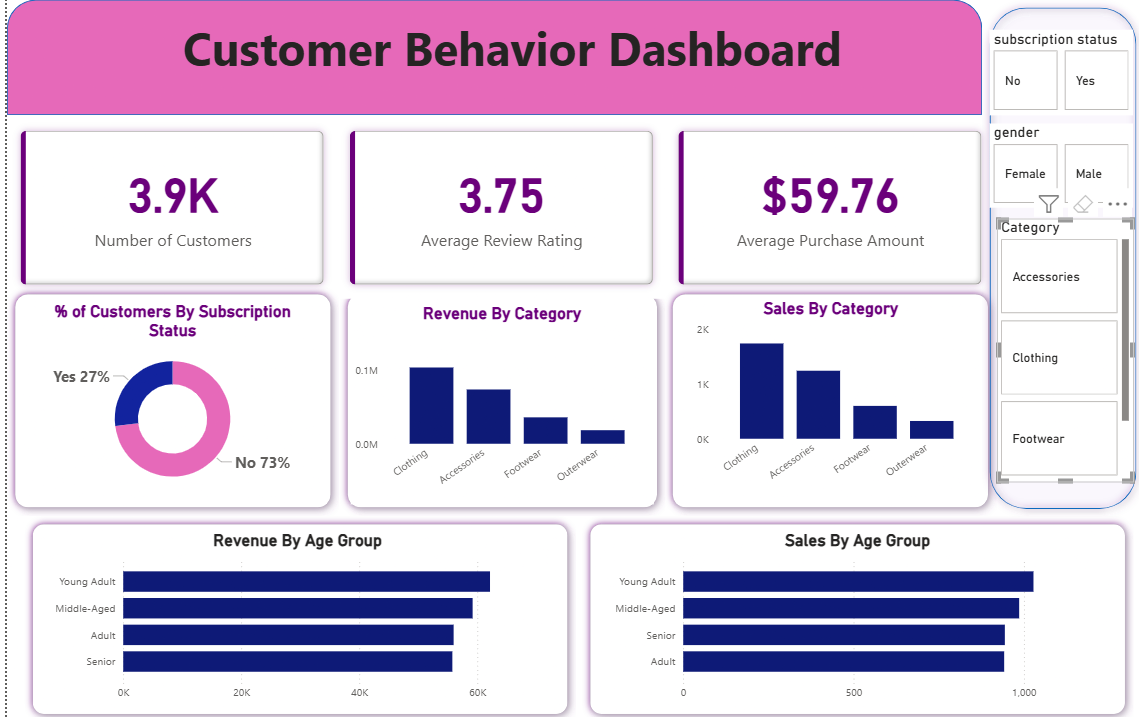

This screenshot's page, from the dashboard's own definition file:
{"tool":"powerbi","page":{"name":"Page 1","canvas":[1318,853],"ordinal":0},"visuals":[{"type":"shape","box":[0,348.4,384.6,266.2],"z":0,"group":"g1"},{"type":"shape","box":[384.6,348.4,377.7,266.2],"z":0},{"type":"cardVisual","fields":{"Data":["customer_behave.Number of Customers","customer_behave.Average Review Rating","customer_behave.Average Purchase Amount"]},"box":[0,151.9,1147,210.4],"z":1000},{"type":"donutChart","title":"% of Customers By Subscription Status","fields":{"Category":["customer_behave.subscription_status"],"Y":["CountNonNull(customer_behave.customer_id)"]},"box":[20.6,367.7,343.4,227.5],"z":1000,"group":"g1"},{"type":"shape","box":[762.3,348.4,384.6,266.2],"z":2000},{"type":"shape","box":[0,15.3,1130.3,133.8],"z":3000},{"type":"textbox","box":[1130,7,150,150],"z":4000},{"type":"textbox","box":[196.5,30.7,777.7,80.8],"z":5000},{"type":"group","id":"g1","title":"Group 1","box":[0,348.4,384.6,266.2],"z":6000},{"type":"clusteredColumnChart","title":"Revenue By Category","fields":{"Category":["customer_behave.category"],"Y":["Sum(customer_behave.purchase_amount)"]},"box":[398.6,367.9,351.2,232.7],"z":7000},{"type":"clusteredColumnChart","title":"Sales By Category","fields":{"Category":["customer_behave.category"],"Y":["CountNonNull(customer_behave.customer_id)"]},"box":[779.1,362.4,351.2,232.7],"z":8000},{"type":"shape","box":[1130.4,15.5,187.9,599.1],"z":9000},{"type":"advancedSlicerVisual","fields":{"Values":["customer_behave.subscription_status"]},"box":[1138.8,50.9,166.7,98.9],"z":10000},{"type":"advancedSlicerVisual","fields":{"Values":["customer_behave.gender"]},"box":[1138.8,159.7,166.7,97.5],"z":11000},{"type":"advancedSlicerVisual","fields":{"Values":["customer_behave.category"]},"box":[1147.3,269.9,158.3,305.2],"z":12000},{"type":"shape","box":[20.3,614.3,638.9,239],"z":13000},{"type":"clusteredBarChart","title":"Revenue By Age Group","fields":{"Y":["Sum(customer_behave.purchase_amount)"],"Category":["customer_behave.age_group"]},"box":[44.9,631.6,583.8,205.7],"z":14000},{"type":"shape","box":[666.4,614.3,638.9,239],"z":14001},{"type":"clusteredBarChart","title":"Sales By Age Group","fields":{"Y":["CountNonNull(customer_behave.customer_id)"],"Category":["customer_behave.age_group"]},"box":[693.9,631.6,583.8,205.7],"z":14002}]}

Visuals, with their boxes in screenshot pixels (x1, y1, x2, y2), scaled from the page's 1318x853 canvas onto the 1139x717 screenshot:
shape: select_region(0, 293, 332, 517)
shape: select_region(332, 293, 659, 517)
cardVisual - customer_behave.Number of Customers x customer_behave.Average Review Rating: select_region(0, 128, 991, 305)
"% of Customers By Subscription Status" donutChart: select_region(18, 309, 315, 500)
shape: select_region(659, 293, 991, 517)
shape: select_region(0, 13, 977, 125)
textbox: select_region(977, 6, 1106, 132)
textbox: select_region(170, 26, 842, 94)
"Group 1" group: select_region(0, 293, 332, 517)
"Revenue By Category" clusteredColumnChart: select_region(344, 309, 648, 505)
"Sales By Category" clusteredColumnChart: select_region(673, 305, 977, 500)
shape: select_region(977, 13, 1138, 517)
advancedSlicerVisual - customer_behave.subscription_status: select_region(984, 43, 1128, 126)
advancedSlicerVisual - customer_behave.gender: select_region(984, 134, 1128, 216)
advancedSlicerVisual - customer_behave.category: select_region(991, 227, 1128, 483)
shape: select_region(18, 516, 570, 716)
"Revenue By Age Group" clusteredBarChart: select_region(39, 531, 543, 704)
shape: select_region(576, 516, 1128, 716)
"Sales By Age Group" clusteredBarChart: select_region(600, 531, 1104, 704)
